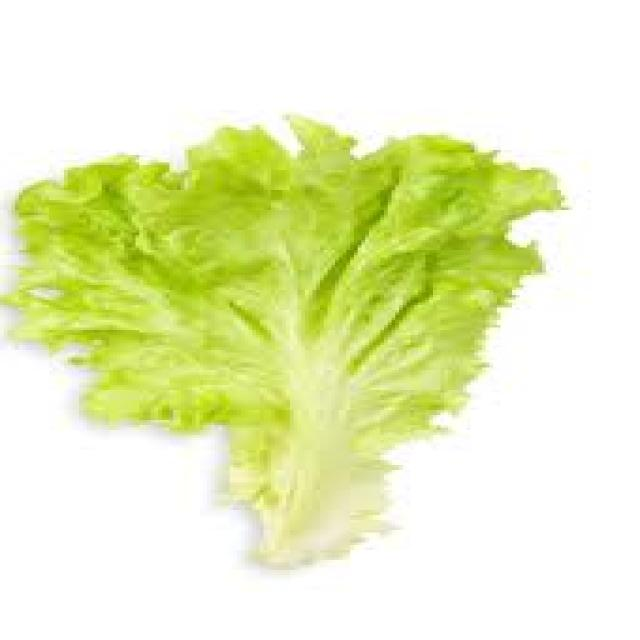cabbage: (0, 100, 606, 580)
